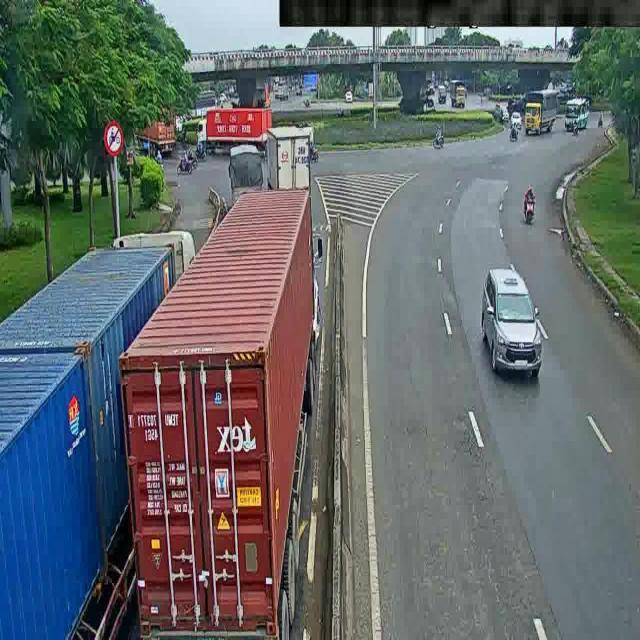bus: (563, 92, 591, 131)
car: (474, 260, 545, 385)
motorbike: (520, 176, 543, 231), (272, 80, 302, 114), (171, 152, 196, 180), (433, 78, 451, 111), (185, 145, 213, 163), (427, 125, 444, 151), (510, 118, 522, 147), (596, 111, 603, 133)
truck: (128, 177, 329, 630), (1, 220, 191, 640), (192, 104, 287, 154), (262, 128, 313, 205), (220, 145, 275, 201), (519, 84, 559, 139), (449, 80, 469, 113)
